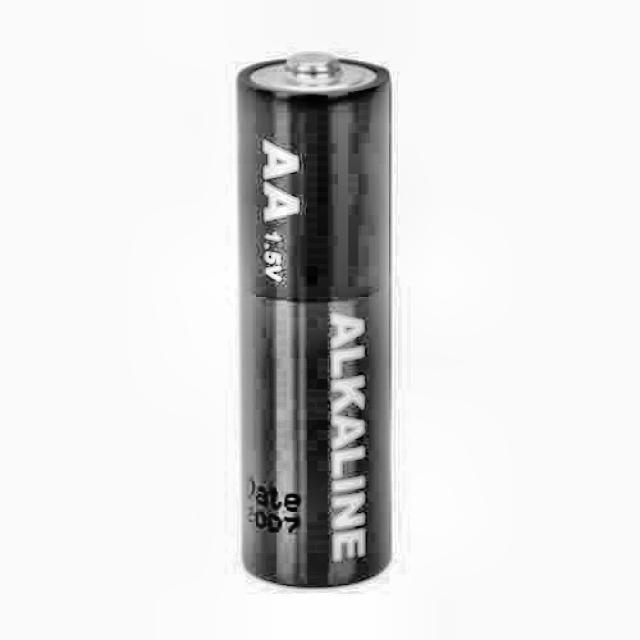drycell: (236, 43, 405, 593)
